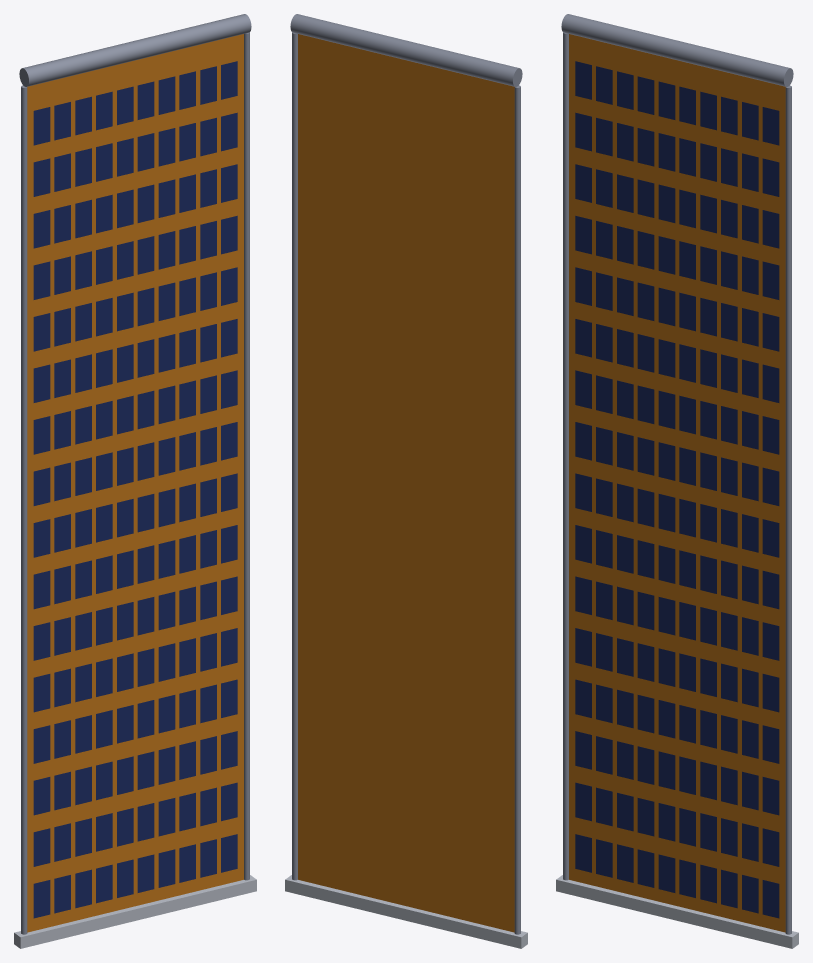
Rendered from rosa.glb.
3 renders of one model, left to right at view 1: azimuth 30°, elevation 25°; view 2: azimuth 150°, elevation 25°; view 3: azimuth 330°, elevation 25°, orthographic.
Parts seen in each view (by area): view 1: rosa_celdas, rosa_blanket, rosa_mast_L, rosa_mast_R, rosa_tip_roll, rosa_base_deployer; view 2: rosa_blanket, rosa_mast_L, rosa_mast_R, rosa_tip_roll, rosa_base_deployer; view 3: rosa_celdas, rosa_blanket, rosa_mast_R, rosa_mast_L, rosa_tip_roll, rosa_base_deployer.
Part boxes in pixels (box(x1,y1,x2,y2)): rosa_celdas: box(33, 61, 237, 918); rosa_blanket: box(27, 34, 243, 932); rosa_mast_L: box(21, 85, 27, 934); rosa_mast_R: box(244, 32, 249, 880); rosa_tip_roll: box(19, 14, 251, 86); rosa_base_deployer: box(14, 875, 256, 948); rosa_blanket: box(298, 34, 514, 932); rosa_mast_L: box(514, 85, 520, 934); rosa_mast_R: box(292, 32, 297, 880); rosa_tip_roll: box(290, 14, 522, 86); rosa_base_deployer: box(285, 875, 527, 948); rosa_celdas: box(575, 61, 779, 918); rosa_blanket: box(569, 34, 785, 932); rosa_mast_R: box(785, 85, 791, 934); rosa_mast_L: box(563, 32, 568, 880); rosa_tip_roll: box(561, 14, 793, 86); rosa_base_deployer: box(556, 875, 798, 948).
Size of the model in its own units: 1.7 by 6.02 by 0.12.
